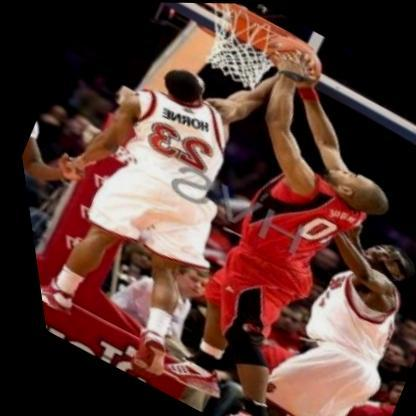basketball: (246, 20, 338, 98)
rim: (186, 2, 302, 96)
